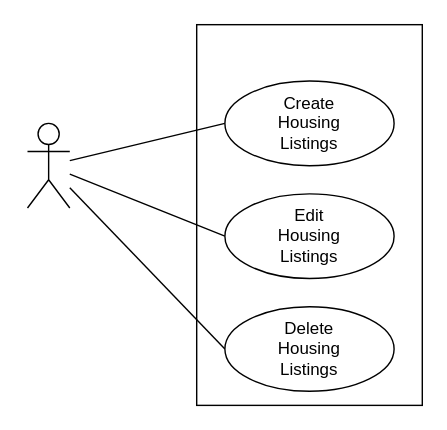
This 447x430 diagram has some shape labels left out. Each missing label, with the box of its shape:
CHNT: (195, 23, 422, 405)
Owner: (26, 122, 70, 208)
